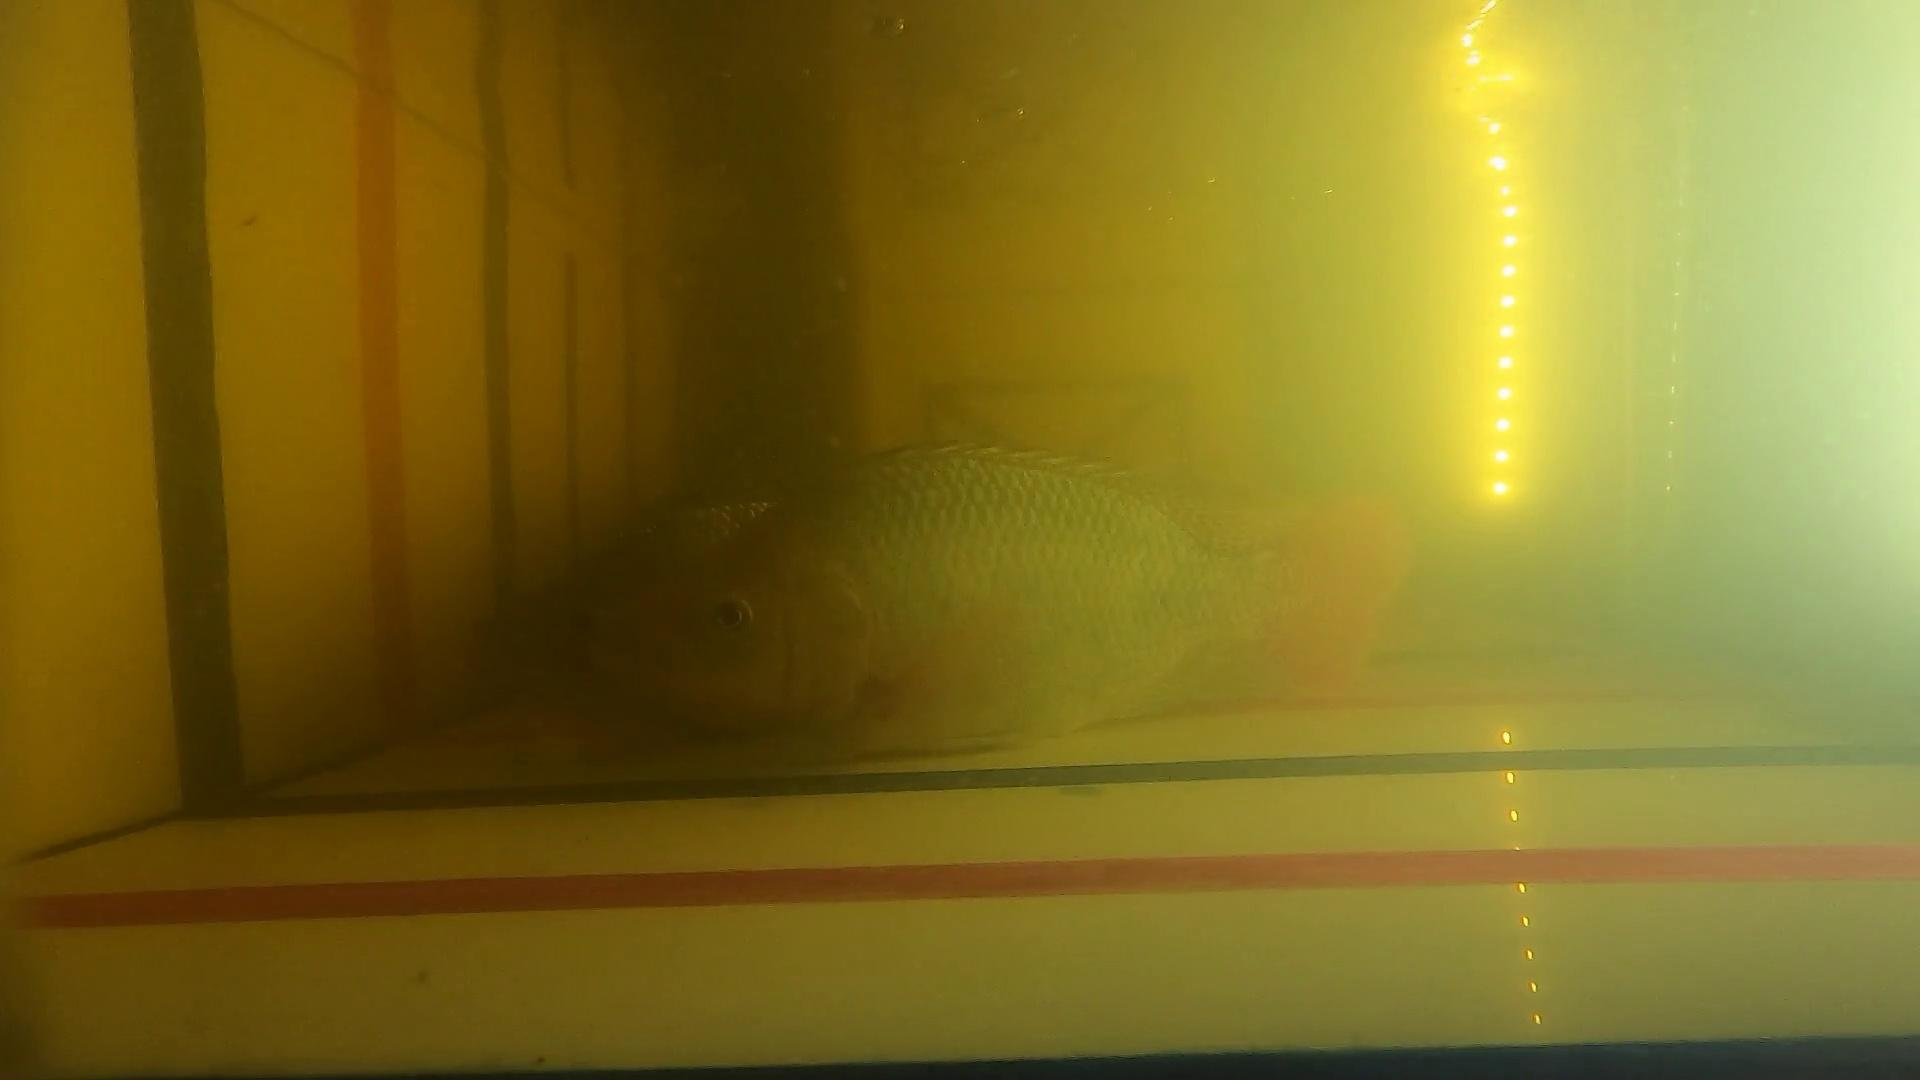Tilapia: (587, 446, 1280, 770)
